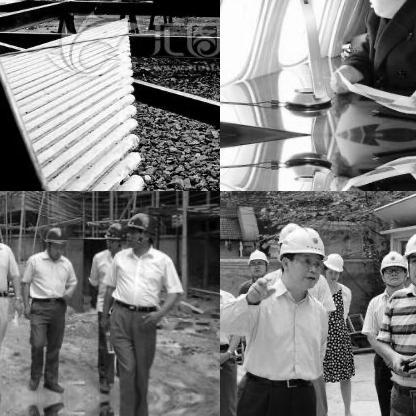Helmet: (279, 227, 325, 289), (376, 245, 408, 286), (124, 212, 158, 250), (401, 226, 415, 289), (244, 245, 272, 276), (103, 220, 127, 254), (321, 250, 346, 282), (43, 226, 69, 256)
